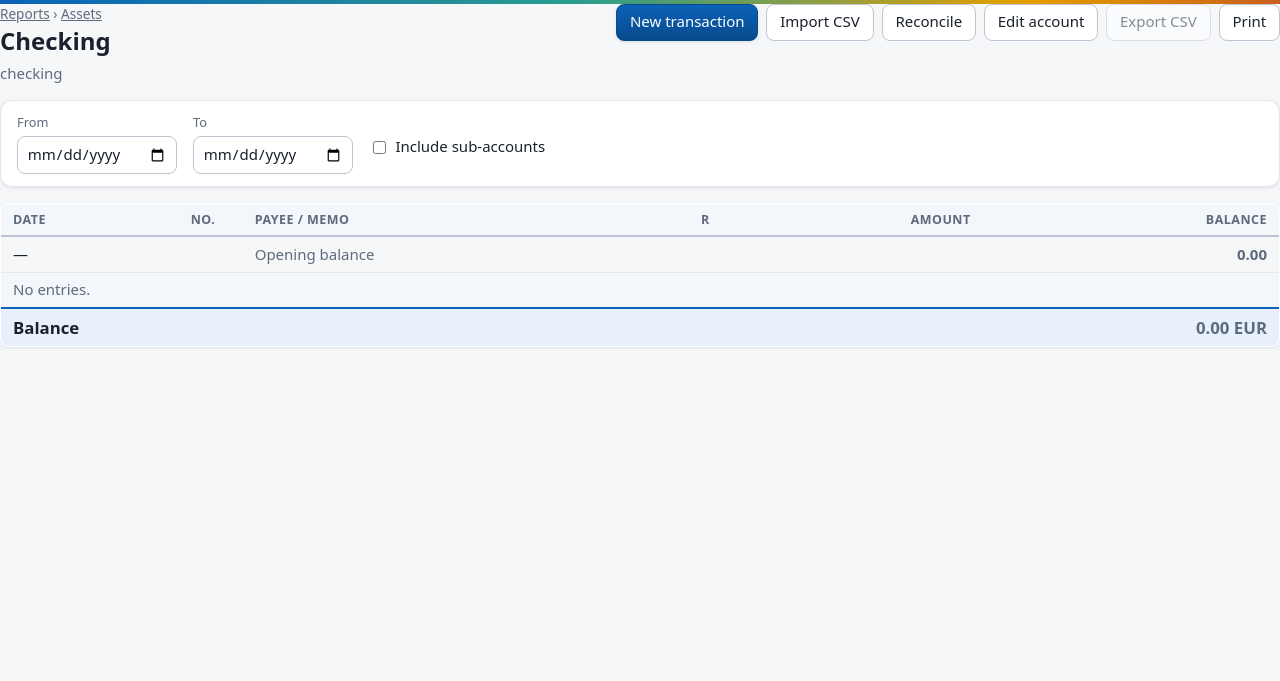
posting from the register › does not send an incomplete draft, and shows the server's refusal
Click the button "New transaction". click: (687, 22)
box: [616,4,758,40]
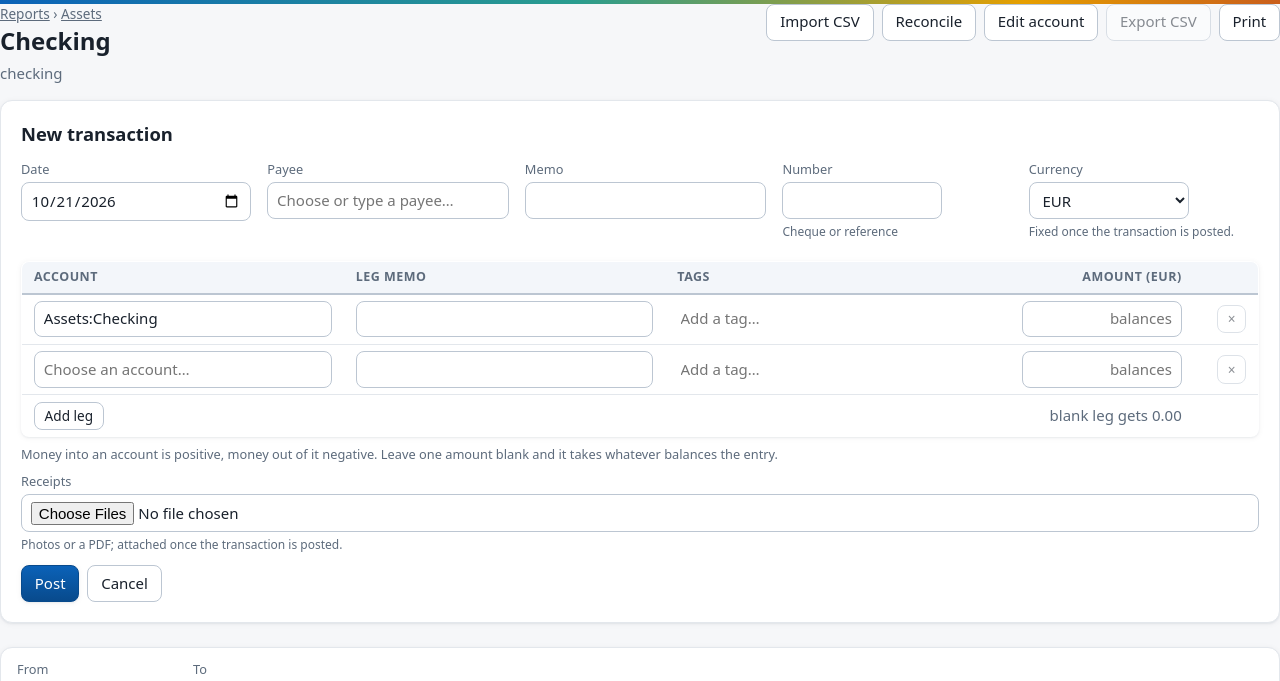
Click the button "Post". click: (50, 584)
box: [21,565,79,602]
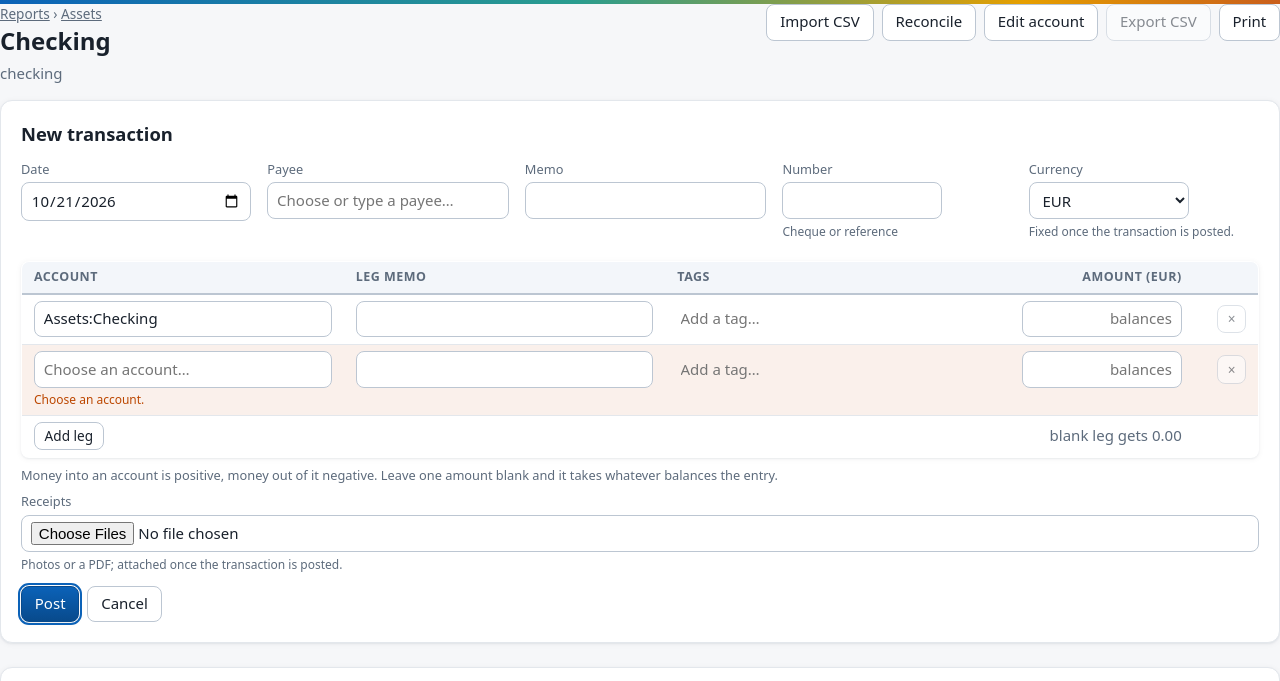
Expected: the text "Choose an account." is shown, [34,391,144,408]
Type "-10" into the field named "Amount of leg 1". click: (1102, 319)
box: [1022,301,1182,337]
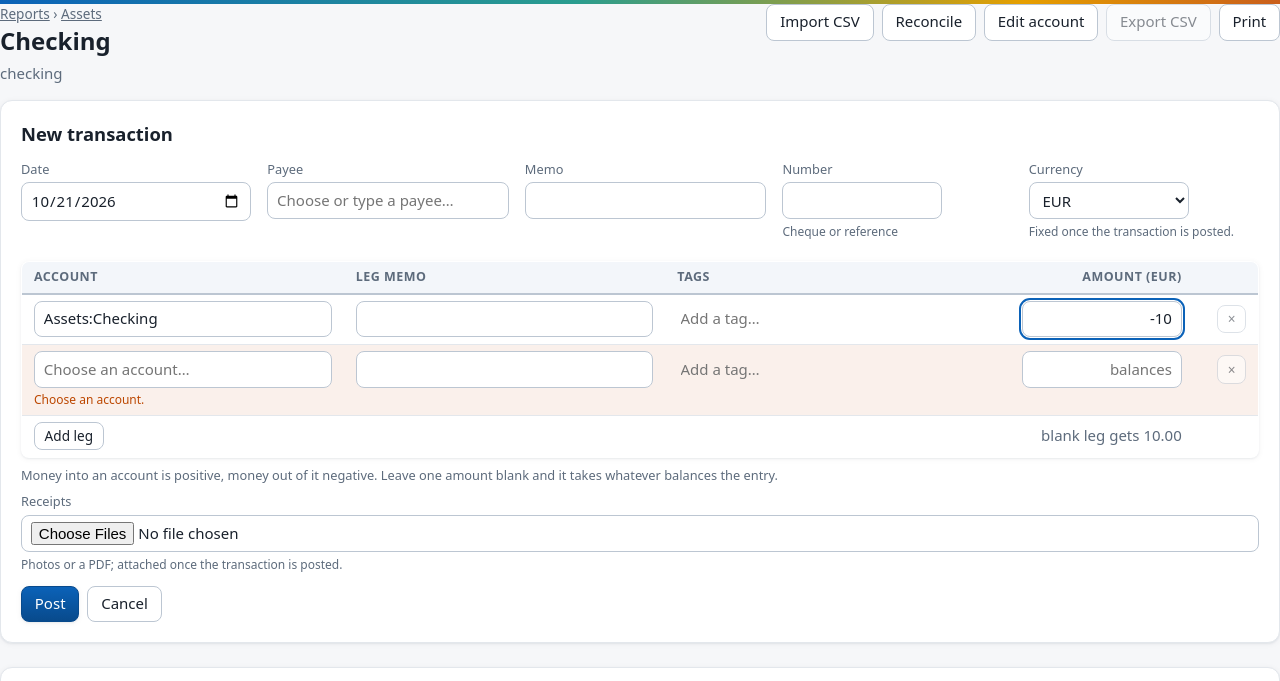
Type "Expenses:Food" into the field named "Account of leg 2". click: (183, 369)
box: [34,351,332,388]
Then press Enter
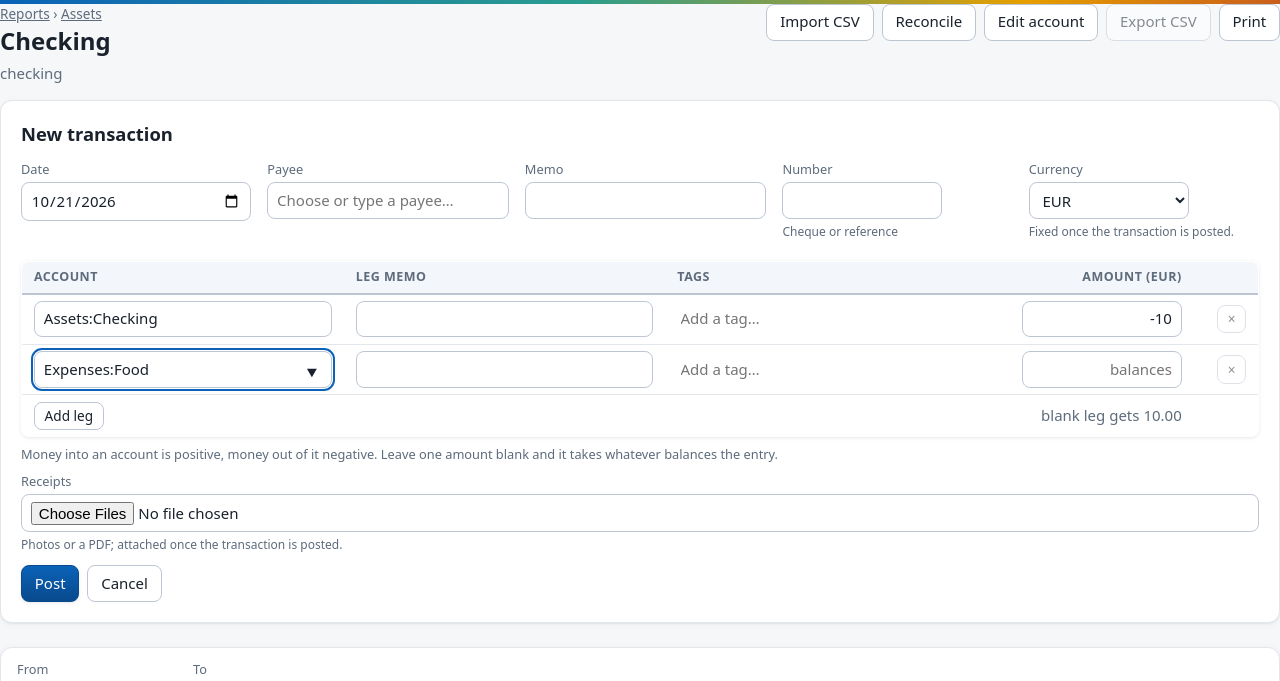
Type "9" into the field named "Amount of leg 2". click: (1102, 369)
box: [1022,351,1182,388]
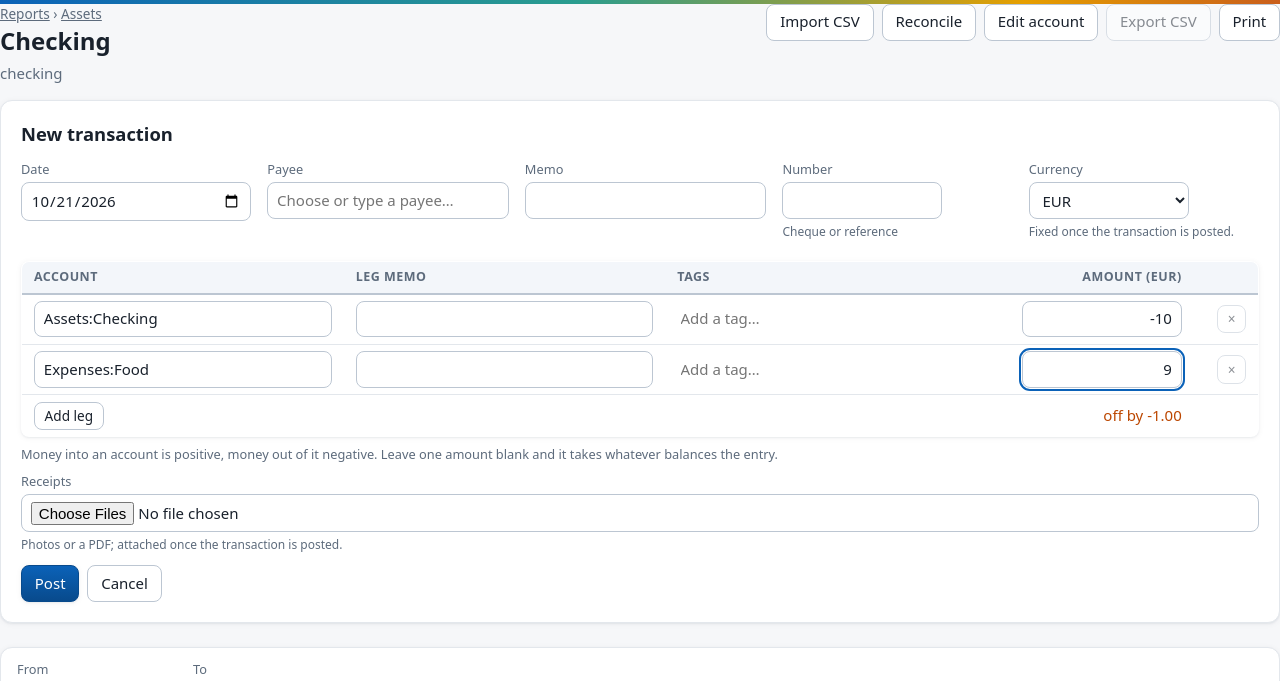
Expected: the text "off by" is shown, [1103,405,1143,425]
Click the button "Post". click: (50, 584)
box: [21,565,79,602]
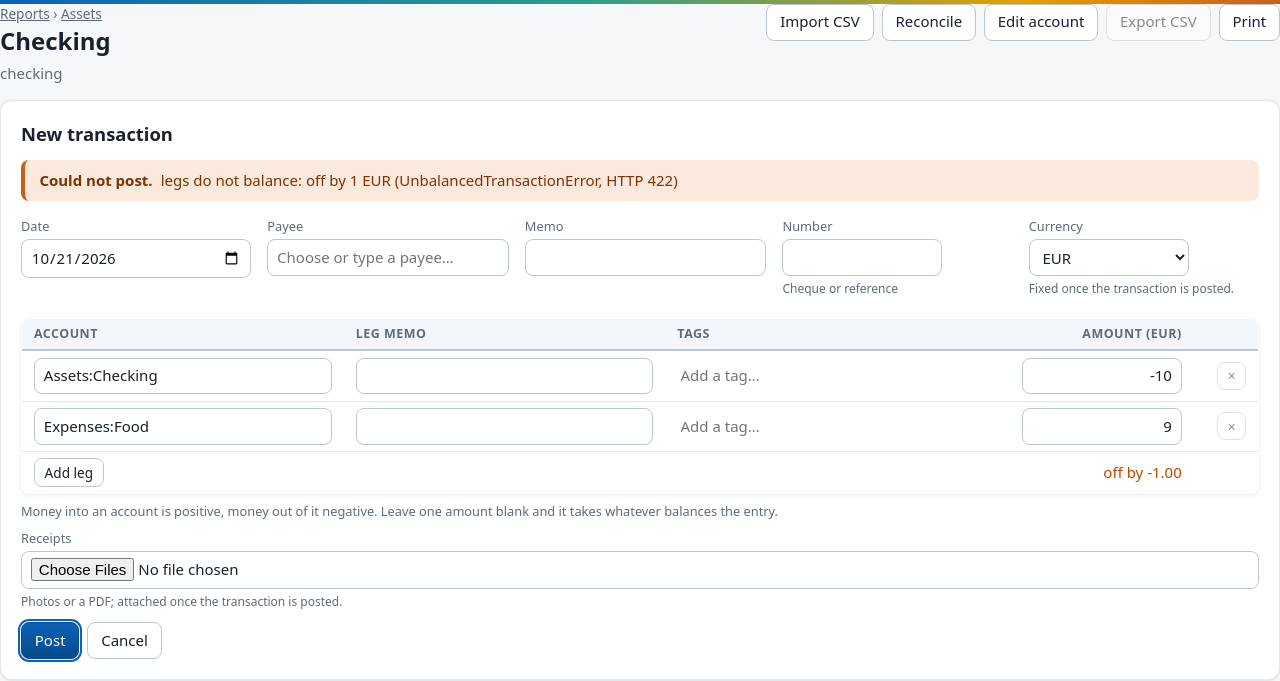
Expected: the text "legs do not balance" is shown, [161,170,678,190]
